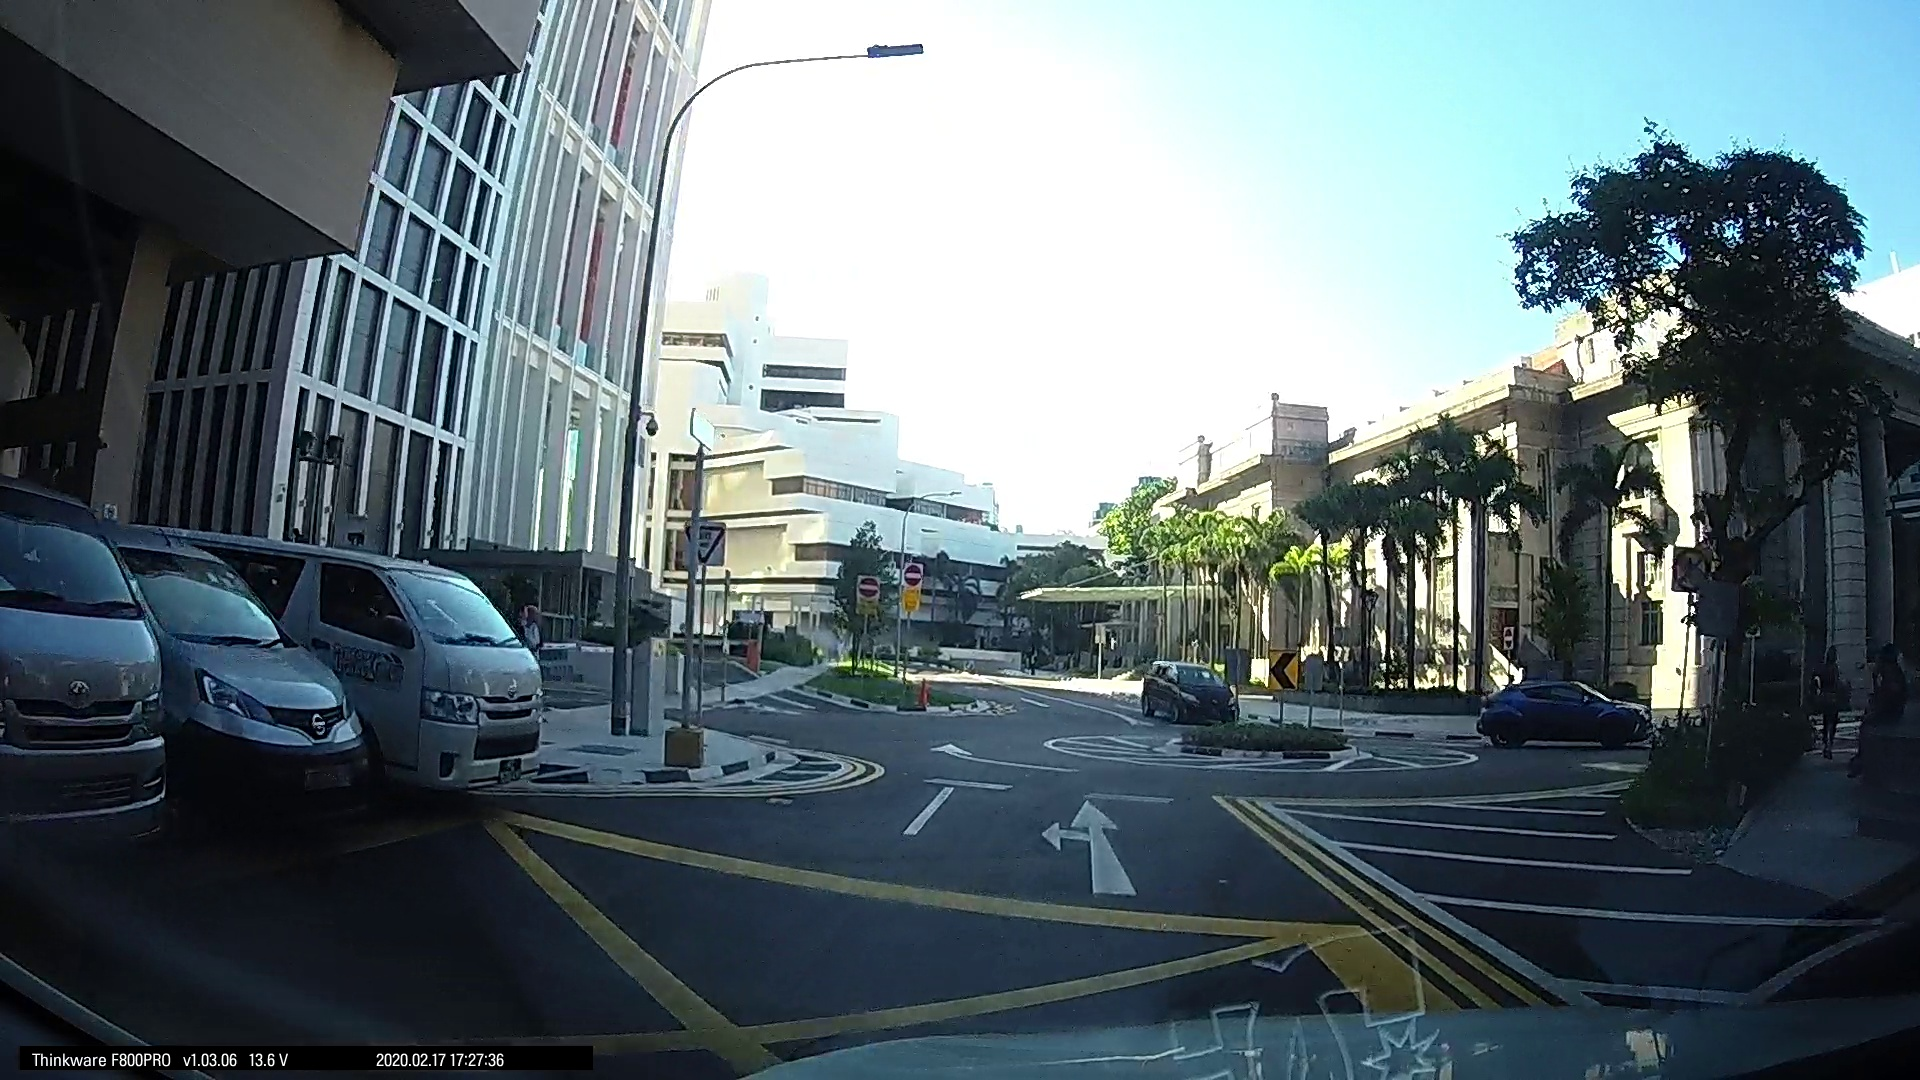Light Vehicle: (174, 533, 556, 803), (104, 527, 360, 795), (1, 483, 187, 833), (1468, 670, 1648, 746), (1138, 658, 1241, 724)
